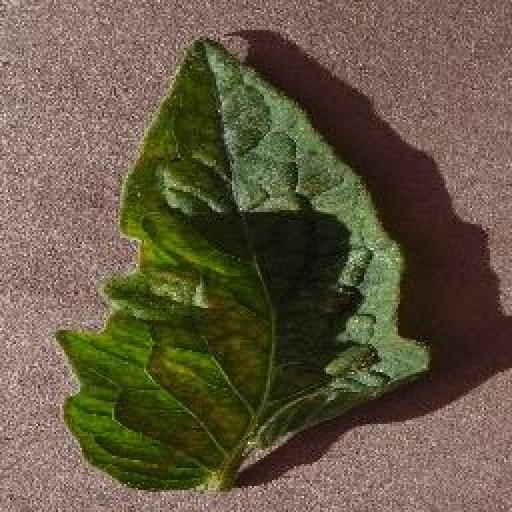Spider Mites: (53, 38, 427, 494)
